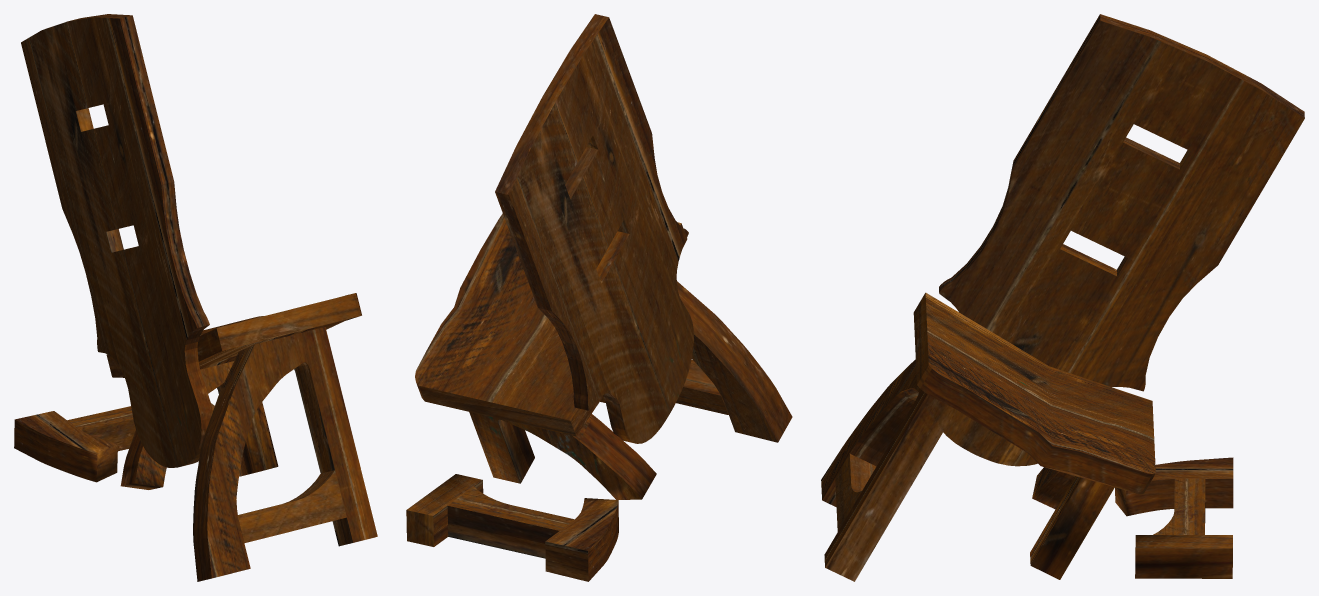
Rendered from brokenstul.fbx.
3 views of the same model, side by side, from view 1: azimuth 30°, elevation 25°; view 2: azimuth 150°, elevation 25°; view 3: azimuth 270°, elevation 25° (orthographic). The views are drawn at different scales.
Parts seen in each view (by area): view 1: Cube.002; view 2: Cube.002; view 3: Cube.002.
Part boxes in pixels (x1,y1,x2,y2): Cube.002: (14, 14, 377, 581); Cube.002: (406, 14, 792, 581); Cube.002: (821, 14, 1304, 581).
Size of the model in its own units: 958 by 2049 by 1793.
1 material, 1 textured.
